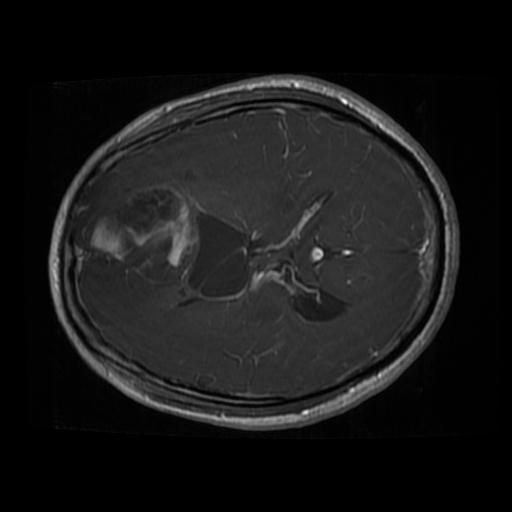glioma: (184, 215, 257, 306)
